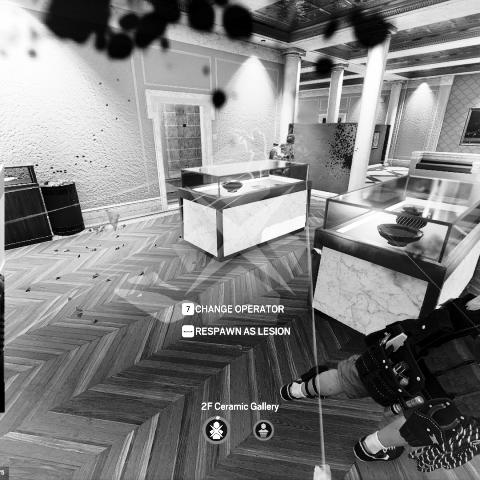Character: (278, 283, 480, 480), (268, 133, 298, 166)
Head: (287, 136, 295, 147)
